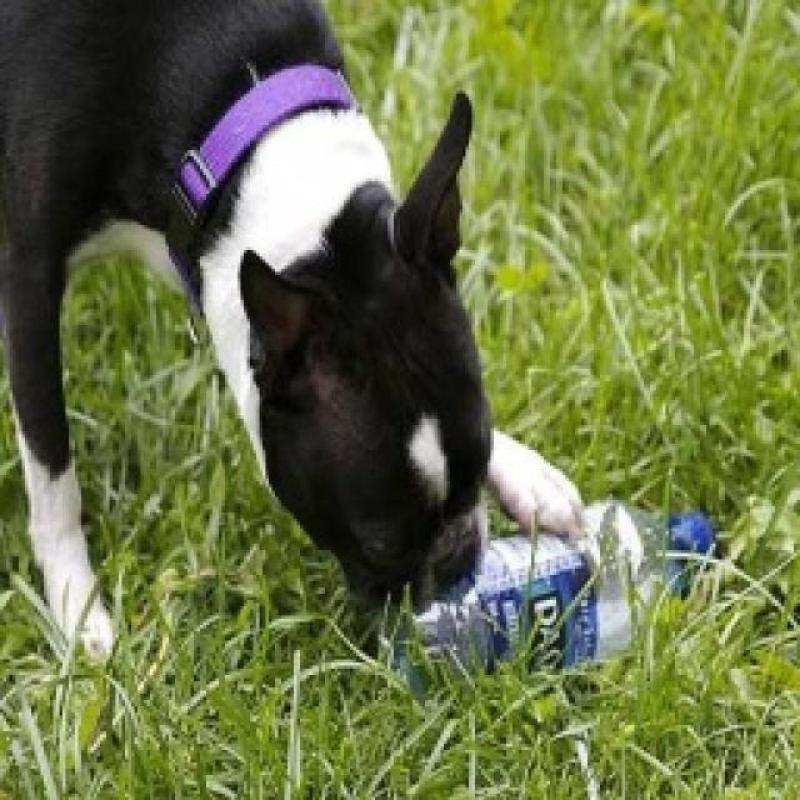botella: (390, 499, 720, 678)
